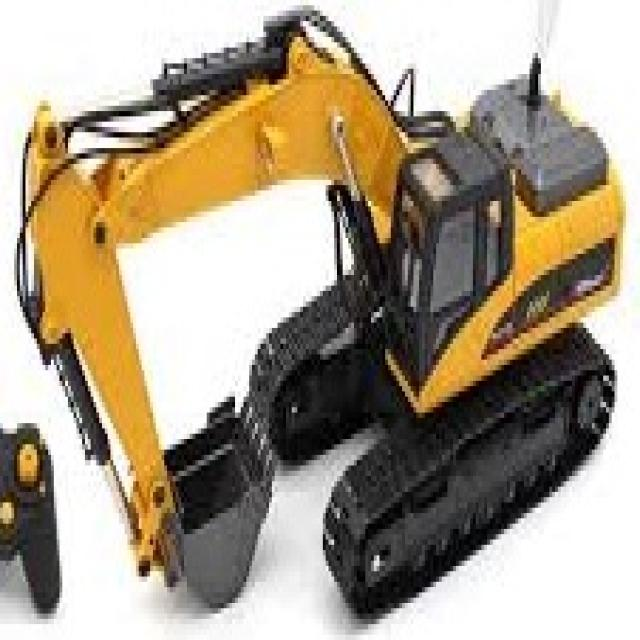excavator: (240, 72, 617, 576)
